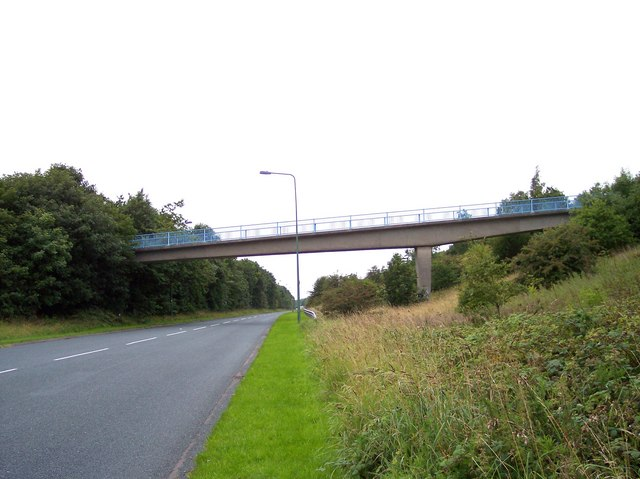bridge: (122, 194, 596, 264)
